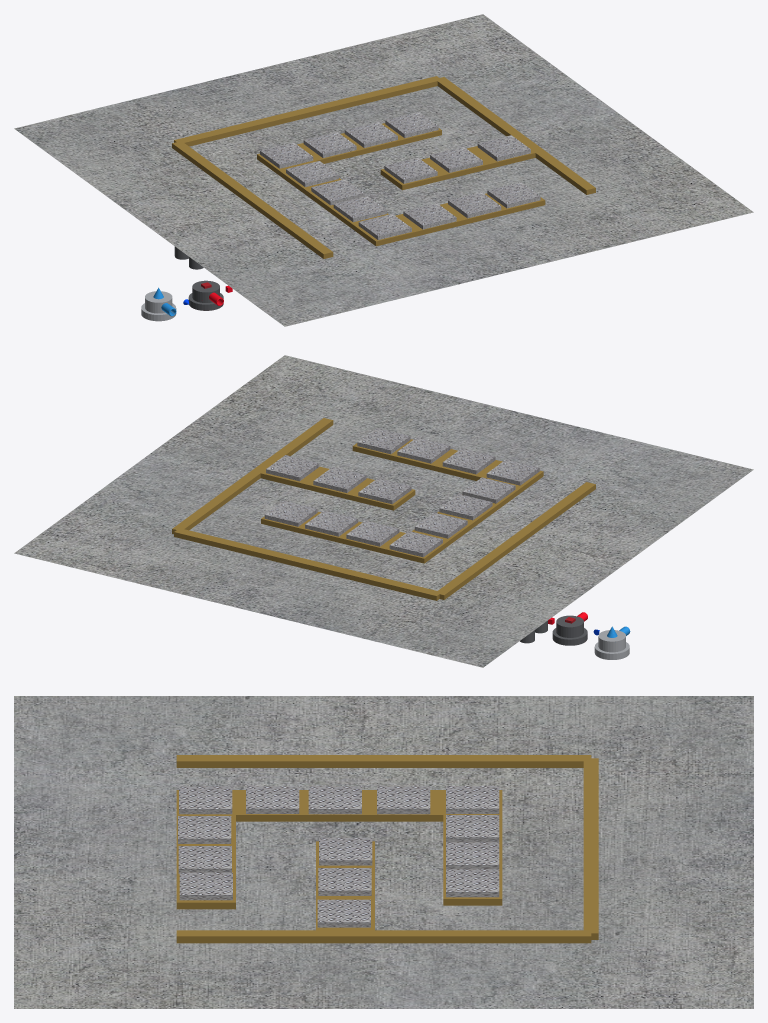
Rendered from world3.gltf.
3 views of the same model, one above another, from view 1: azimuth 30°, elevation 25°; view 2: azimuth 150°, elevation 25°; view 3: azimuth 270°, elevation 25° (orthographic). The views are drawn at different scales.
Visible parts, largest first — view 1: Floor, Wall, Tower2, Tower1, Base5, Base6, Base7, Base09, Base11, Base12, Base0, Base3 (+6 smaller); view 2: Floor, Wall, Tower2, Tower1, Base11, Base1, Base4, Base7, Base8, Base6, Base09, Base10 (+6 smaller); view 3: Floor, Wall, Base1, Base2, Base4, Base09, Base11, Base12, Base5, Base0, Base3, Base7 (+4 smaller).
Part boxes in pixels (x1,y1,x2,y2): Floor: (14,14,753,326); Wall: (172,76,595,258); Tower2: (141,287,176,321); Tower1: (188,280,223,310); Base5: (487,182,540,208); Base6: (448,192,501,218); Base7: (403,203,456,229); Base09: (385,112,438,138); Base11: (384,157,437,183); Base12: (477,135,530,161); Base0: (260,142,313,168); Base3: (333,196,386,222); Floor: (14,355,753,667); Wall: (172,418,595,600); Tower2: (594,626,630,659); Tower1: (552,612,587,645); Base11: (358,478,411,504); Base1: (414,512,467,538); Base4: (486,459,539,485); Base7: (442,448,495,474); Base8: (346,520,399,546); Base6: (397,437,450,463); Base09: (264,500,317,526); Base10: (305,510,358,536); Floor: (14,696,753,1008); Wall: (176,755,598,943); Base1: (377,786,430,814); Base2: (308,786,361,814); Base4: (179,786,232,814); Base09: (446,869,499,897); Base11: (319,837,372,865); Base12: (317,899,370,927); Base5: (179,872,232,900); Base0: (446,786,499,813); Base3: (246,786,299,813); Base7: (178,816,231,843).
Size of the model in its own units: 25.39 by 4.88 by 25.
9 materials, 9 textured.
